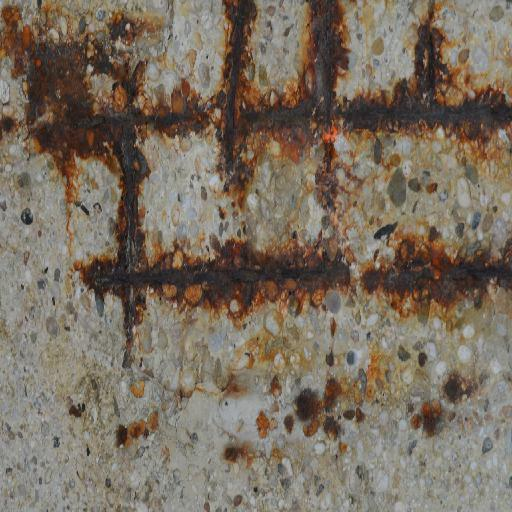exposed_rebar: (71, 0, 512, 366), (376, 256, 512, 296)
